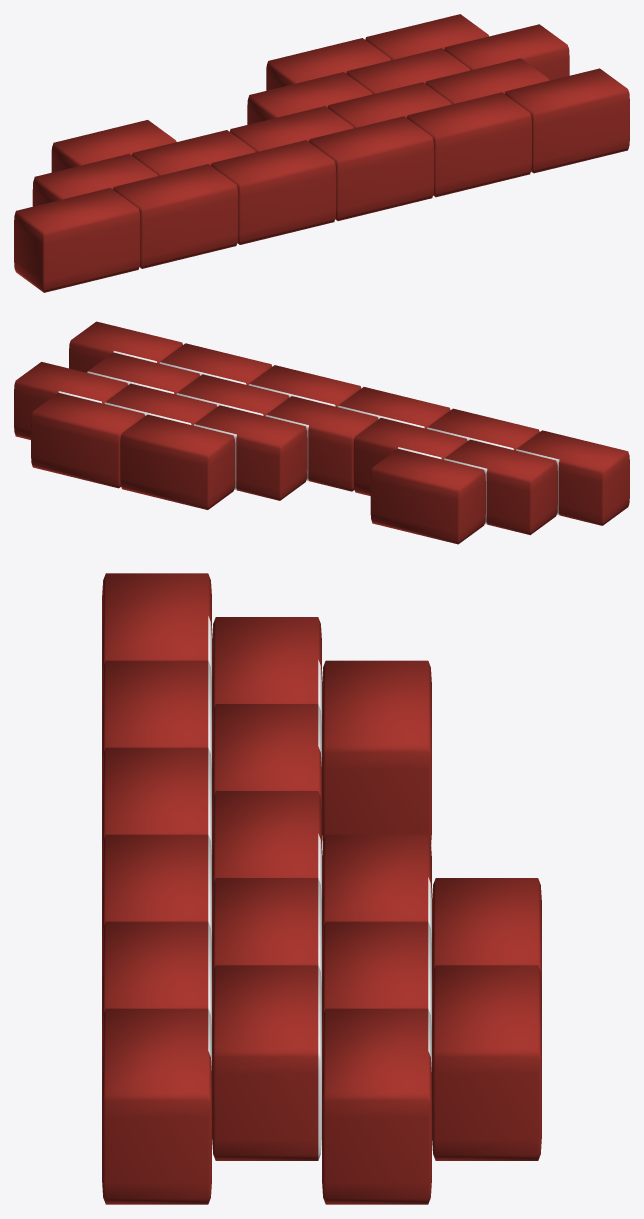
File: wallSegmentUnfinished.fbx
3 views of the same model, one above another, from view 1: azimuth 30°, elevation 25°; view 2: azimuth 150°, elevation 25°; view 3: azimuth 270°, elevation 25° (orthographic). The views are drawn at different scales.
Visible parts, largest first — view 1: brickWallUnfinished; view 2: brickWallUnfinished; view 3: brickWallUnfinished.
Boxes of the visible parts, <box> form: brickWallUnfinished: <box>14,14,629,292</box>; brickWallUnfinished: <box>14,321,629,544</box>; brickWallUnfinished: <box>102,573,541,1204</box>.
Size of the model in its own units: 634 by 63.38 by 226.
Materials: 1 (1 with a texture image).
